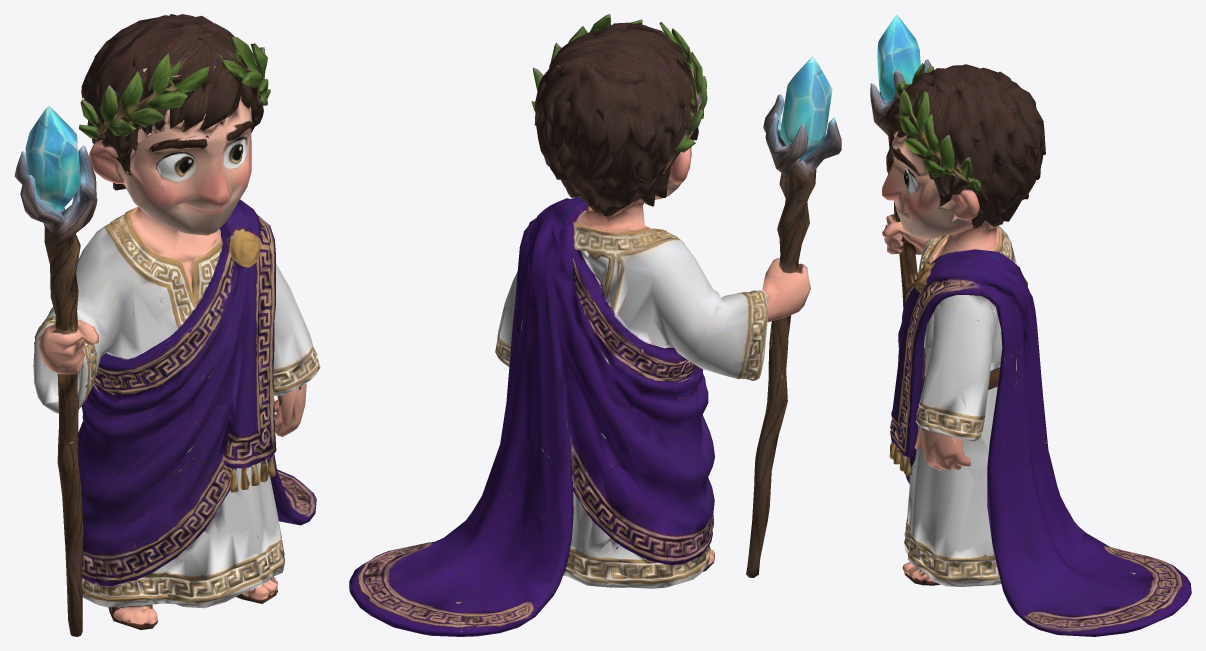
The model's file is vestec_m.glb.
3 renders of one model, left to right at view 1: azimuth 30°, elevation 25°; view 2: azimuth 150°, elevation 25°; view 3: azimuth 270°, elevation 25°, orthographic. The views are drawn at different scales.
Size of the model in its own units: 1.4 by 1.9 by 1.15.
Materials: 1 (1 with a texture image).
